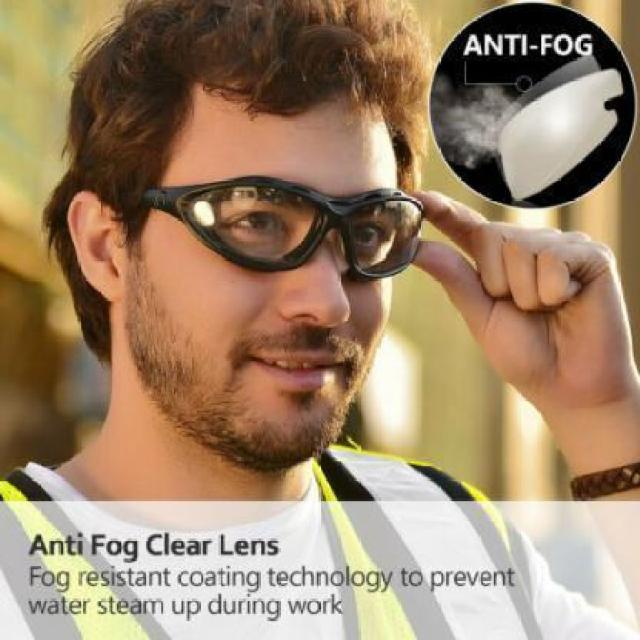face_nomask: (200, 193, 406, 409)
glasses: (134, 172, 426, 286)
hand_noglove: (401, 178, 640, 407)
